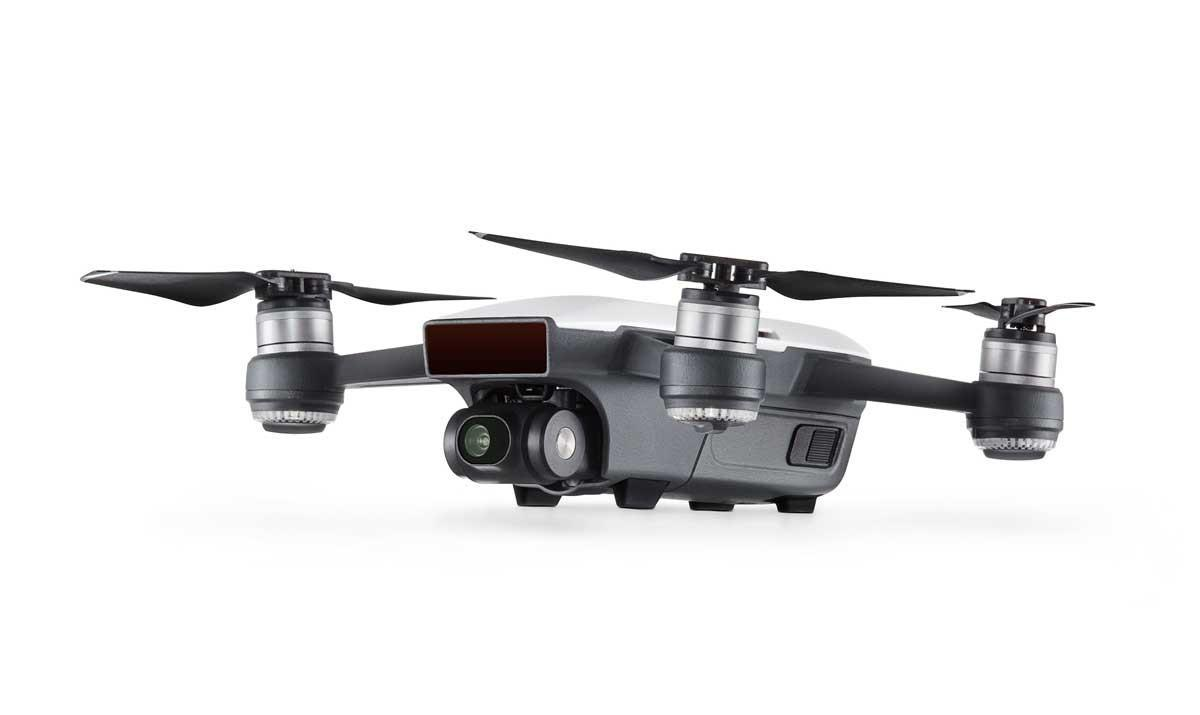drone: (84, 228, 1097, 520)
